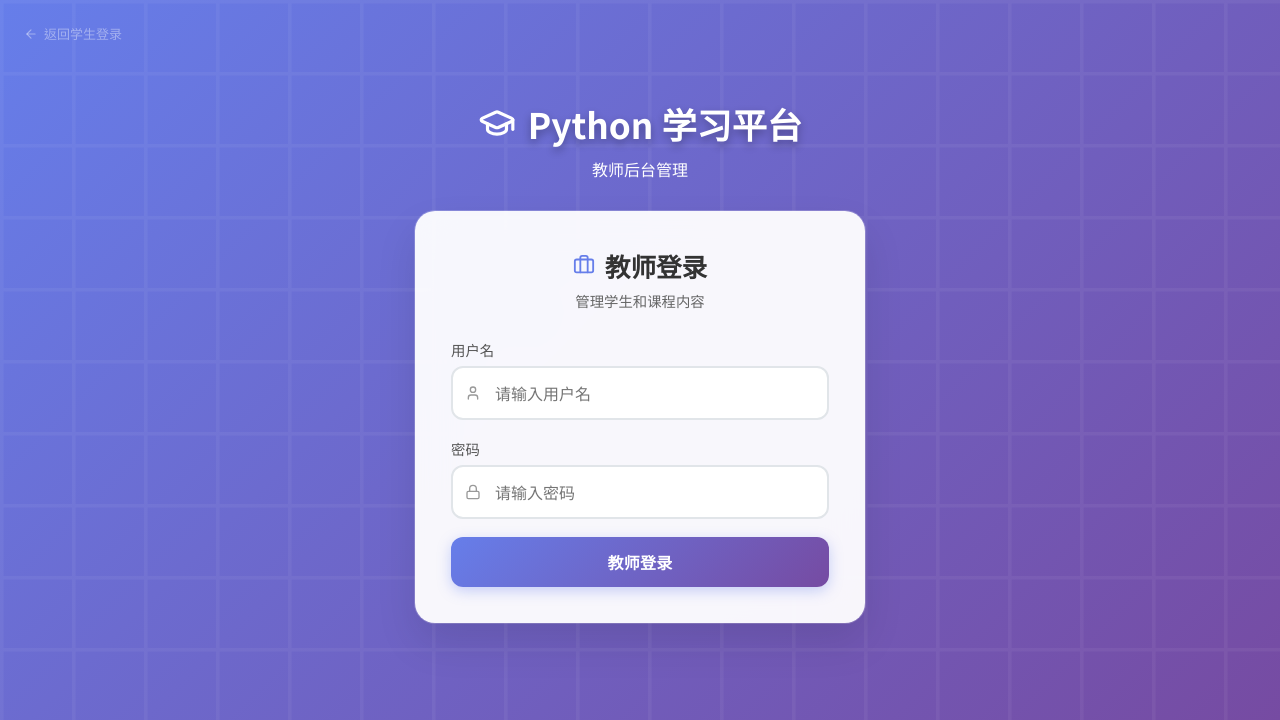
Test case: TeacherLogin.jsx › shows generic error on network failure
Type "alex" into the field with placeholder "请输入用户名" at (640, 392), box [451,366,829,420]
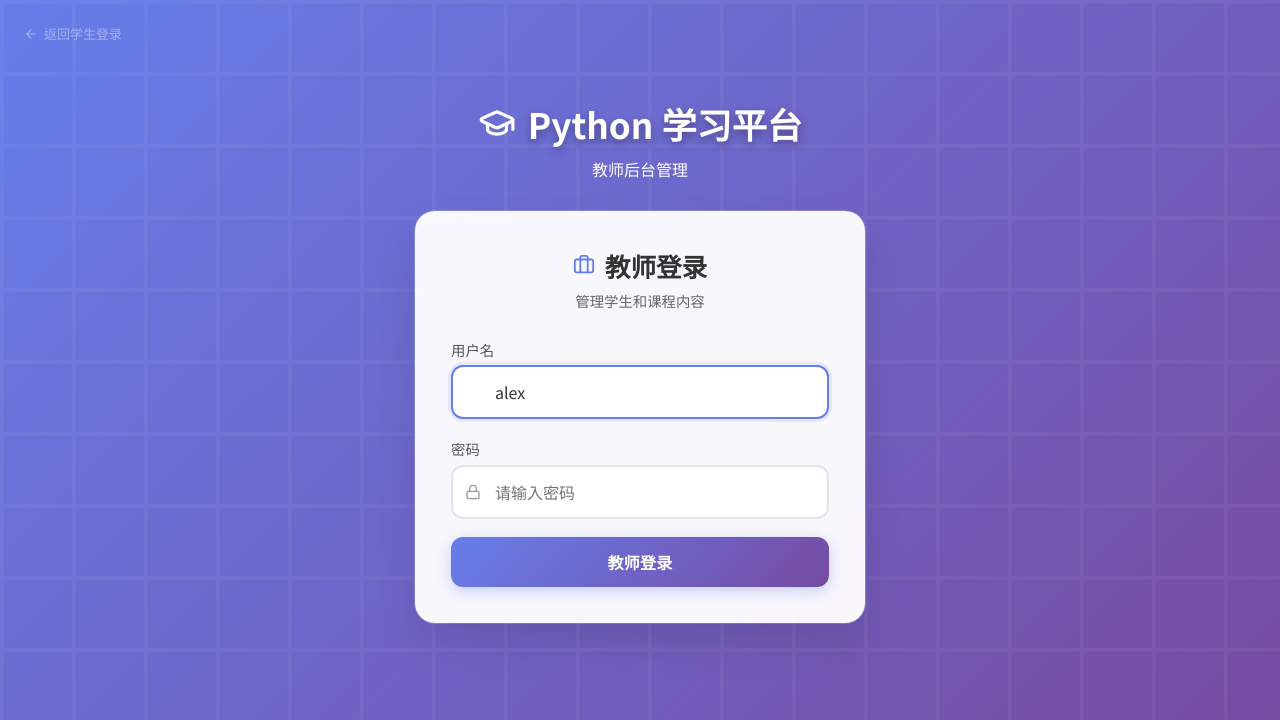
Type "teacher123" into the password field with placeholder "请输入密码" at (640, 492), box [451,464,829,518]
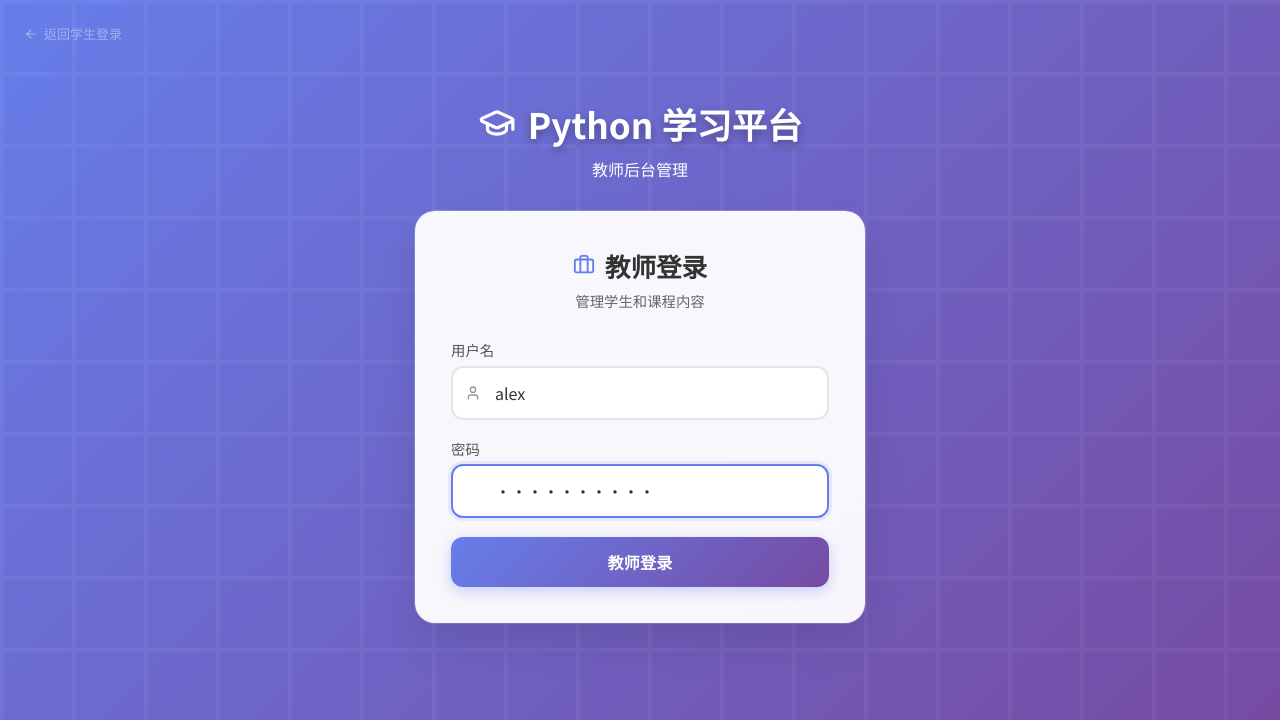
Click the button "教师登录" at (640, 562), box [451,536,829,586]
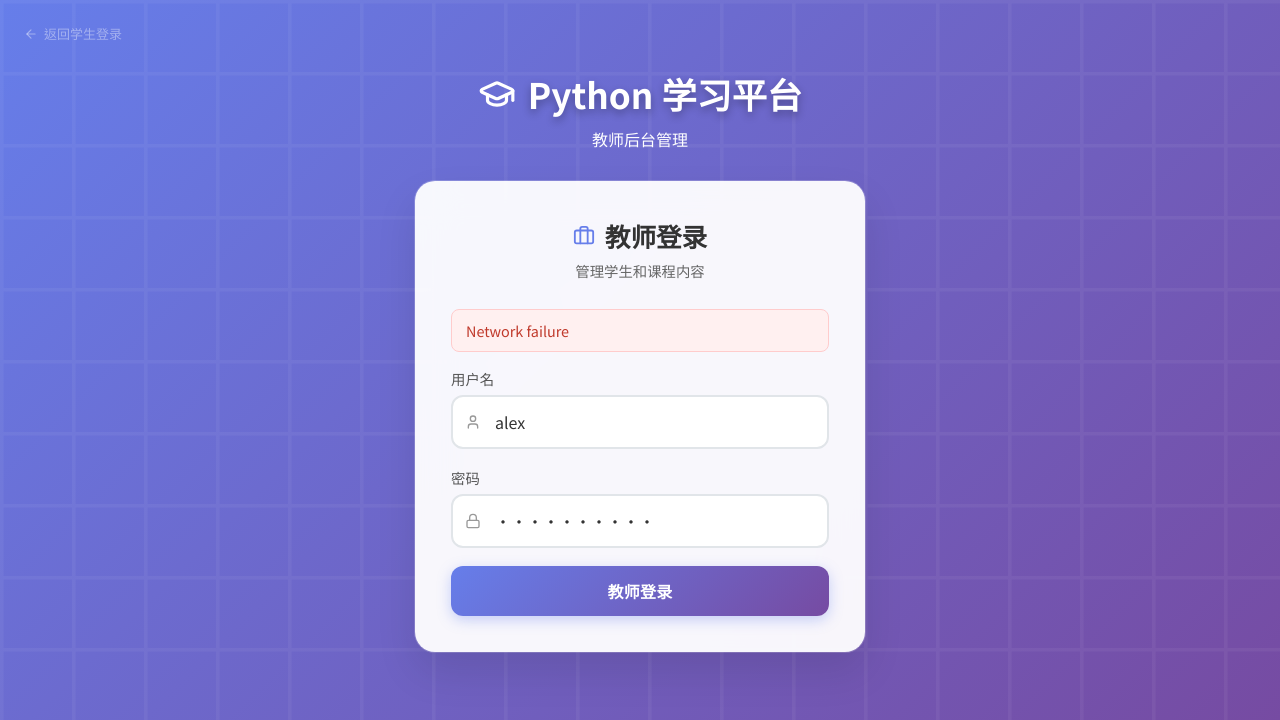
Now the text "Network failure" is shown, box [451,309,829,352]
